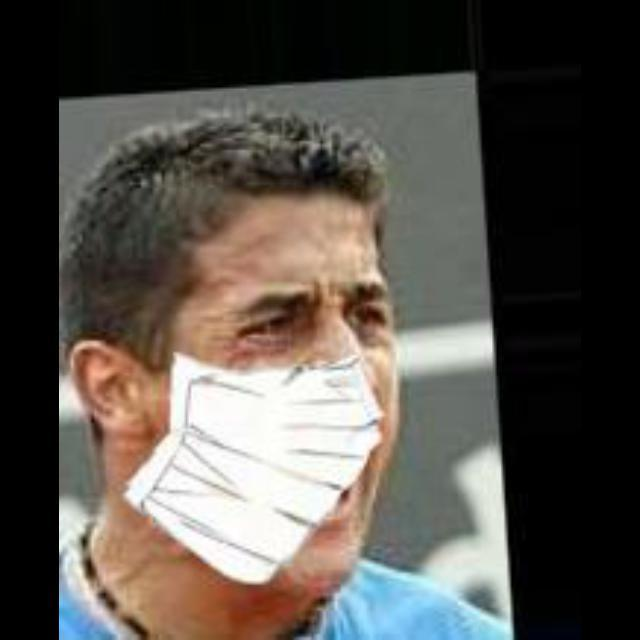suspicion: (72, 141, 404, 581)
